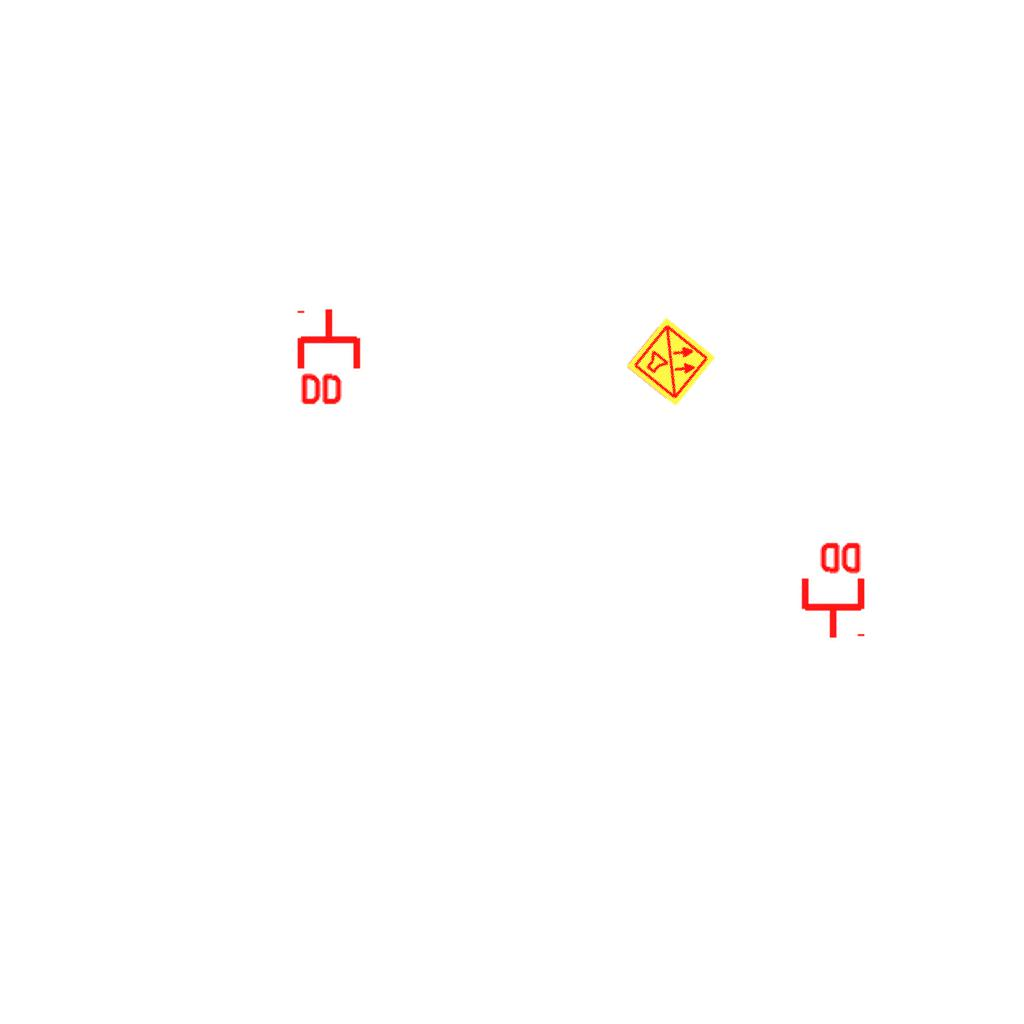Datenanschluss_zweifach: (296, 306, 365, 409), (797, 538, 866, 641)
OKW_Multisensormelder_(Kombination_optischer_Rauch-Kahlenmonoxid_Waerme-Melder): (624, 315, 718, 409)
